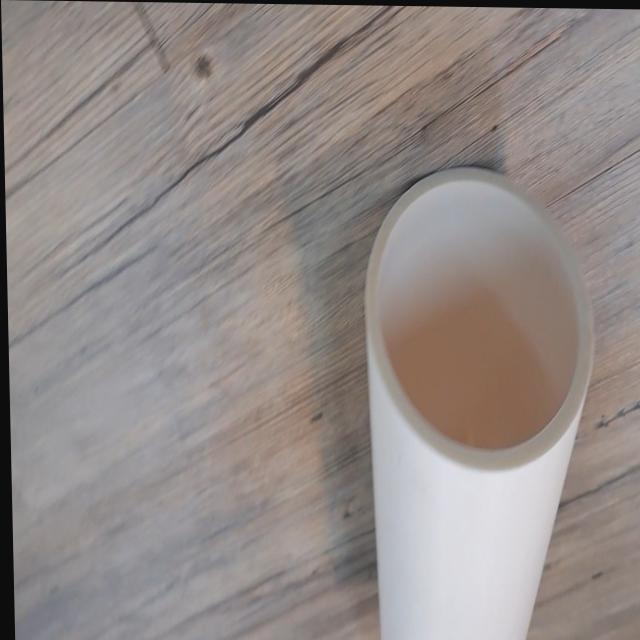CORAL: (353, 144, 602, 640)
